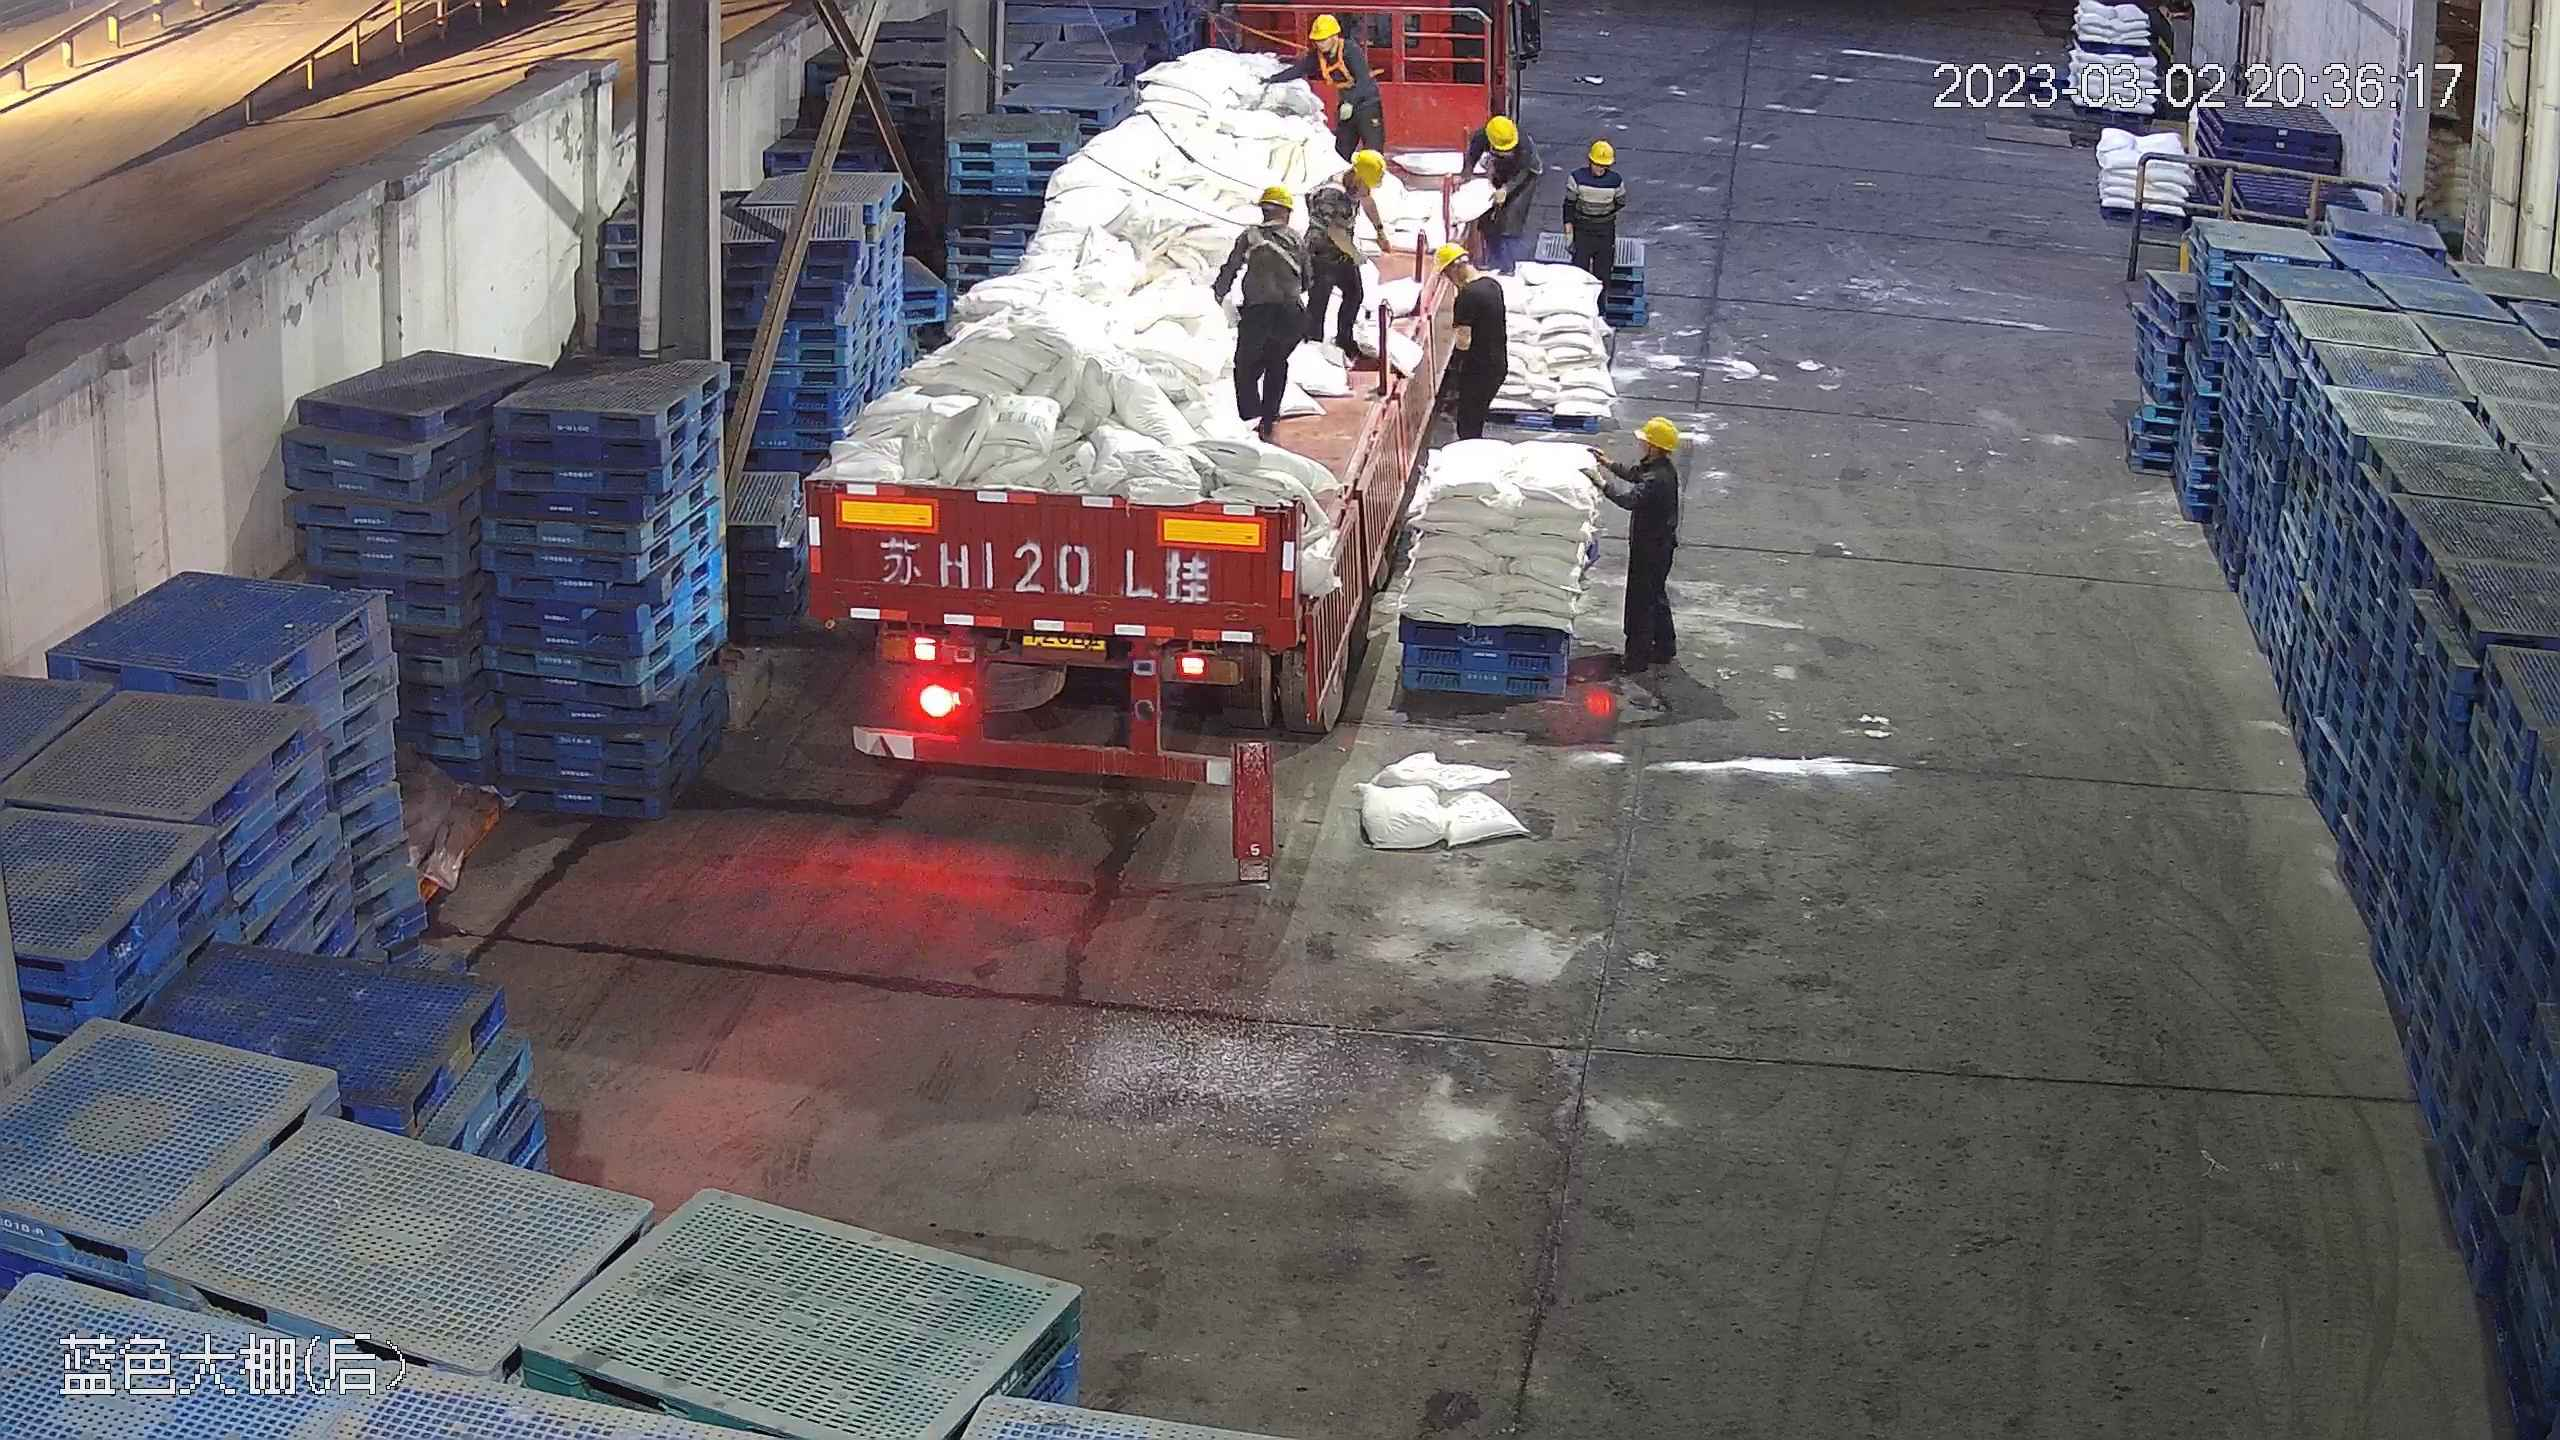belt: (1242, 222, 1305, 288), (1308, 175, 1365, 235), (1309, 40, 1358, 94)
head: (1228, 182, 1309, 262), (1619, 416, 1684, 509), (1310, 149, 1385, 225), (1435, 245, 1505, 318), (1465, 114, 1533, 182), (1299, 14, 1363, 76), (1568, 140, 1622, 199)
helmet: (1479, 114, 1520, 154), (1634, 416, 1681, 450), (1346, 149, 1386, 189), (1259, 182, 1300, 213), (1433, 245, 1468, 273), (1309, 13, 1342, 39), (1587, 139, 1617, 164)
people: (1211, 178, 1313, 437), (1600, 415, 1686, 679), (1299, 146, 1389, 373), (1428, 239, 1510, 450), (1452, 110, 1538, 274), (1286, 10, 1382, 154), (1560, 135, 1629, 313)
truck: (804, 15, 1506, 769)
